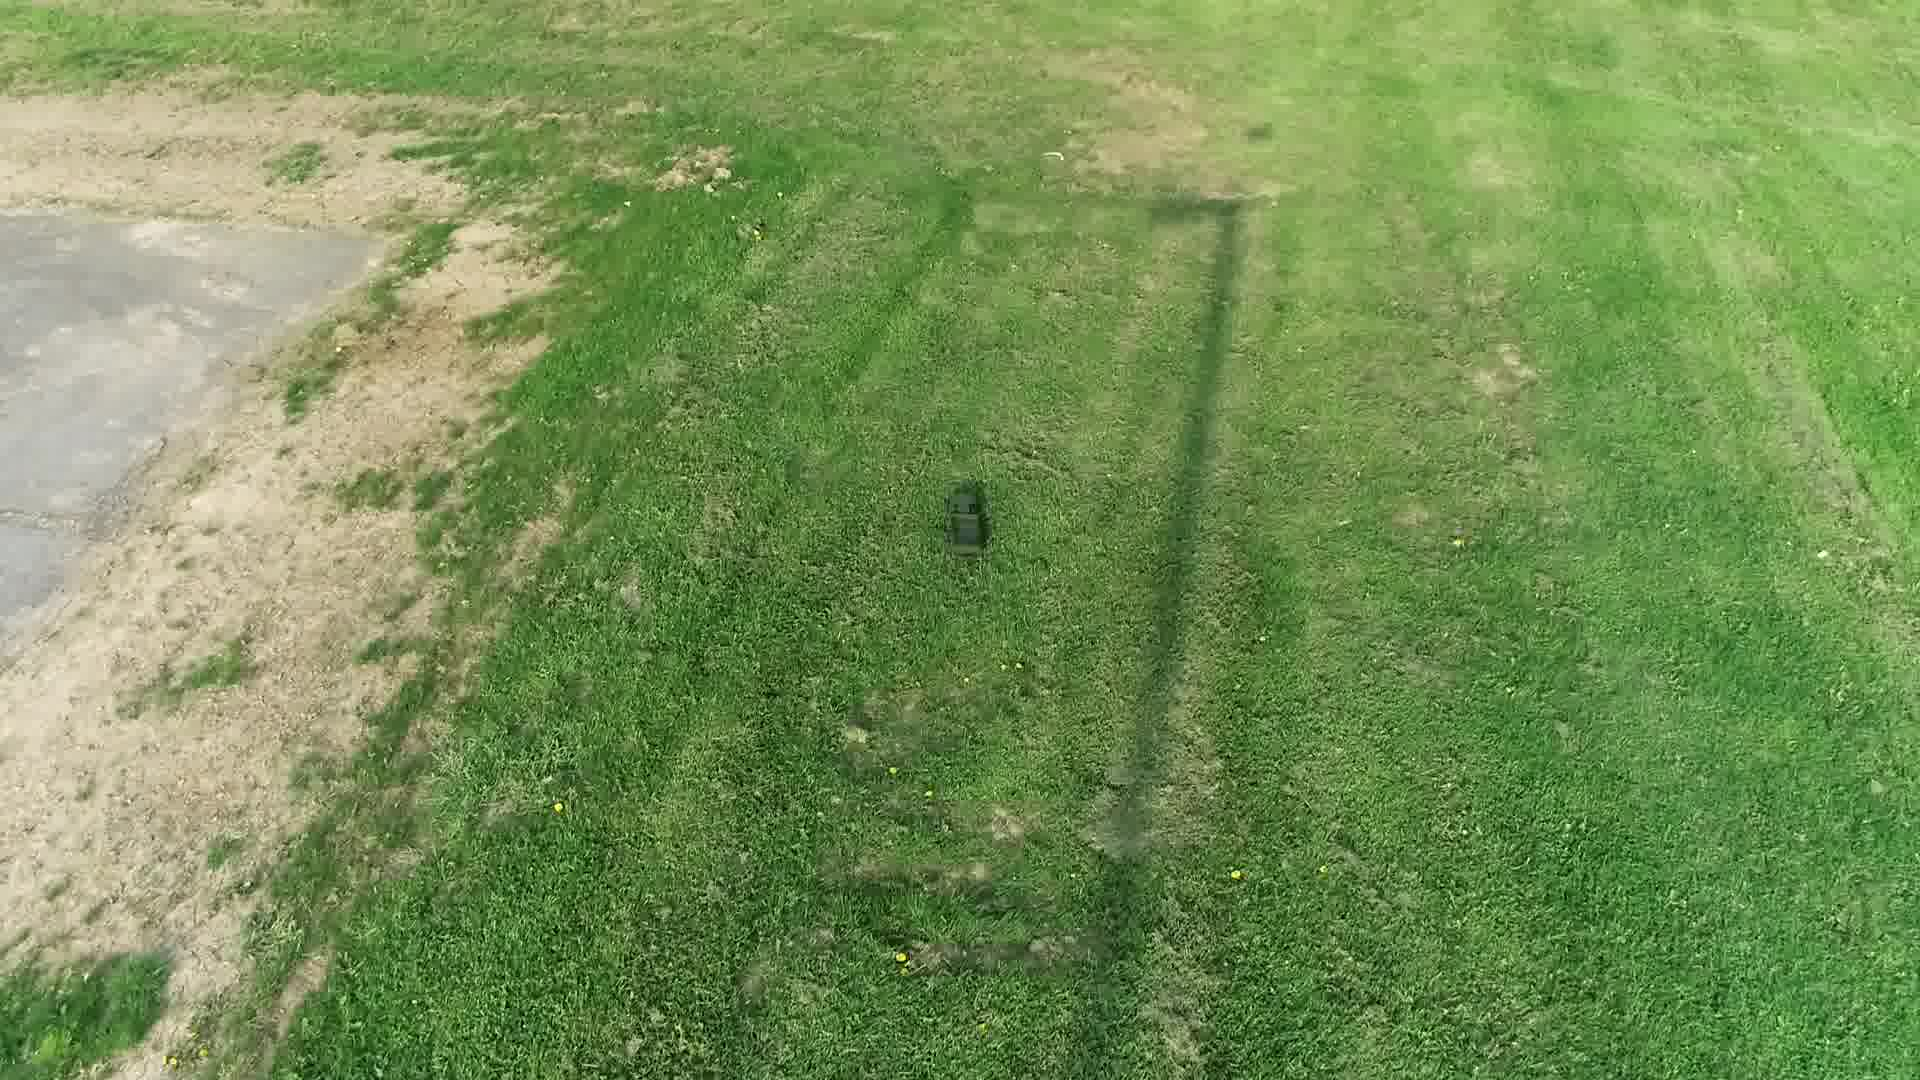transporter9: (942, 488, 994, 560)
